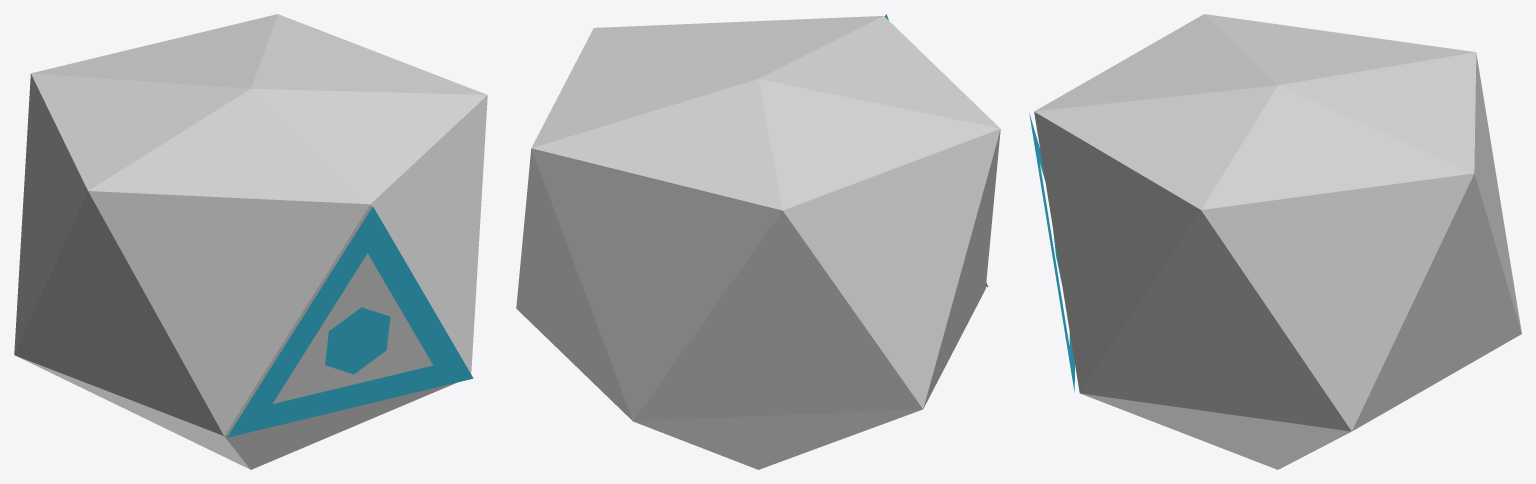
The model's file is Baptiste - icosphere obsatcle V1.fbx.
3 views of the same model, side by side, from view 1: azimuth 30°, elevation 25°; view 2: azimuth 150°, elevation 25°; view 3: azimuth 270°, elevation 25° (orthographic). The views are drawn at different scales.
Parts seen in each view (by area): view 1: Icosphere, laser icosphere; view 2: Icosphere; view 3: Icosphere, laser icosphere.
Boxes of the visible parts, bbox=[...] form: Icosphere: bbox=[14, 14, 487, 469]; laser icosphere: bbox=[227, 206, 473, 437]; Icosphere: bbox=[516, 16, 1000, 469]; Icosphere: bbox=[1034, 14, 1521, 469]; laser icosphere: bbox=[1029, 113, 1074, 391].
Bounding box in the file's own units: 26.26 × 23.97 × 27.84.
